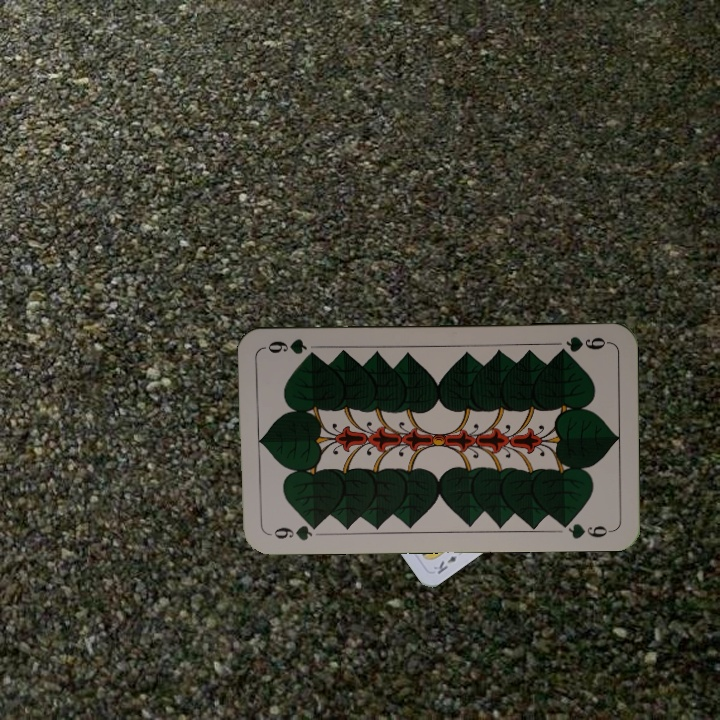EK: (429, 551, 460, 577)
G9: (553, 332, 611, 357), (265, 519, 324, 543)
